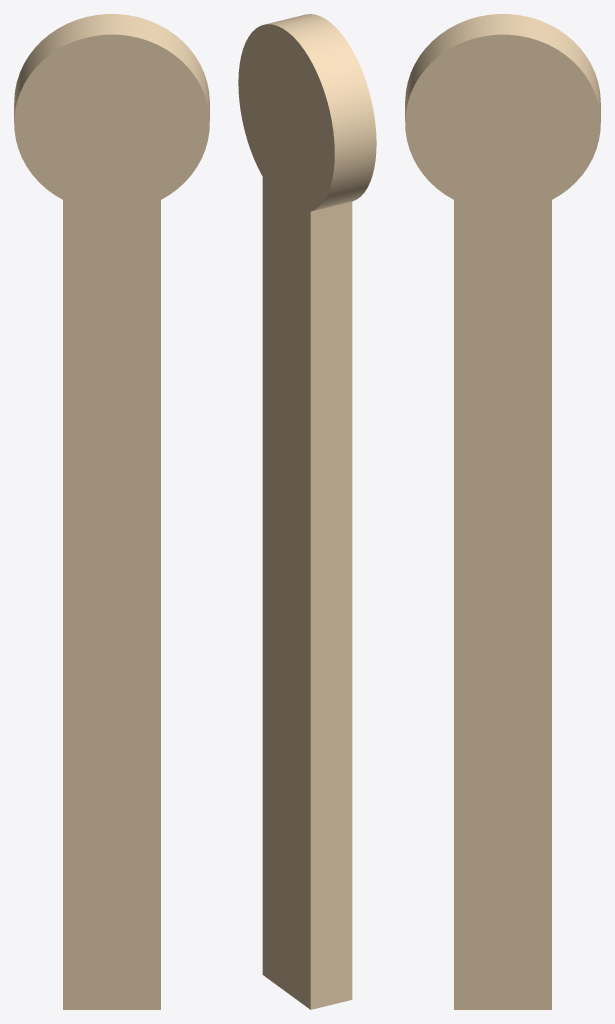
3 views of the same model, side by side, from view 1: azimuth 90°, elevation 25°; view 2: azimuth 210°, elevation 25°; view 3: azimuth 270°, elevation 25° (orthographic).
Visible parts, largest first — view 1: Arm Segment; view 2: Arm Segment; view 3: Arm Segment.
Part boxes in pixels (x1,y1,x2,y2): Arm Segment: (14, 14, 209, 1009); Arm Segment: (238, 14, 376, 1009); Arm Segment: (405, 14, 600, 1009).
Bounding box in the file's own units: 0.0254 × 0.5587 × 0.1016.
